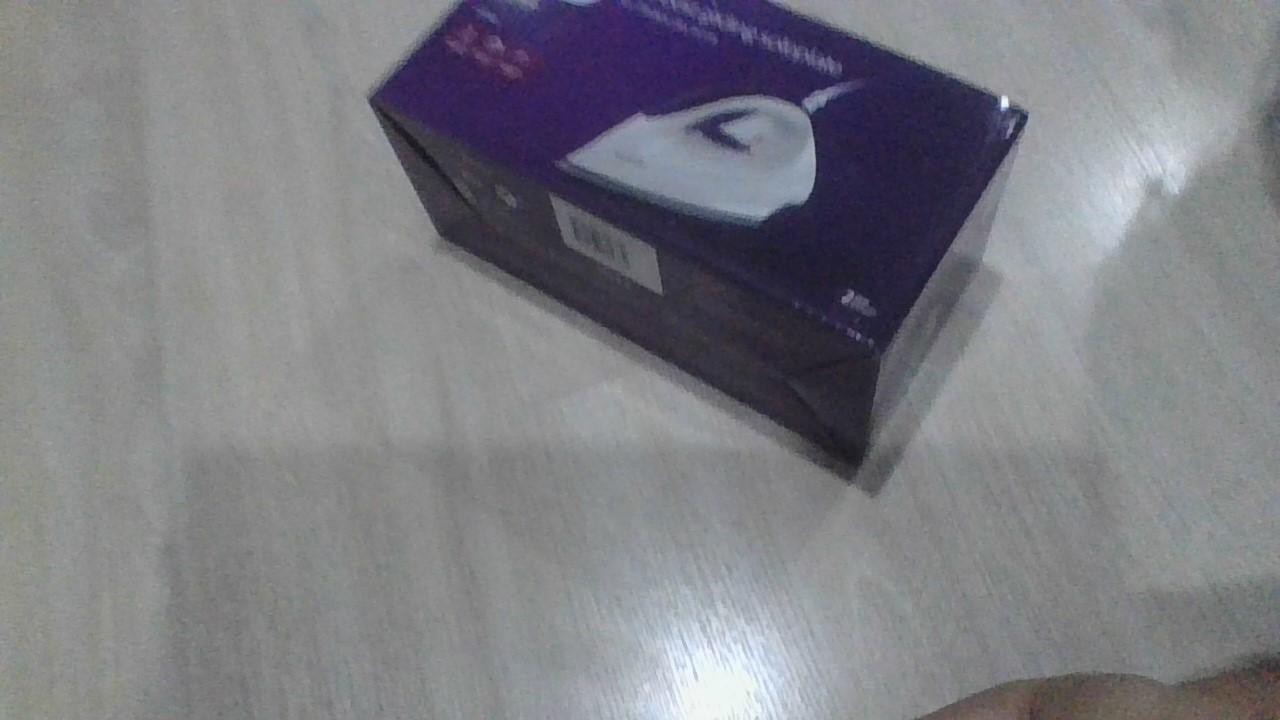IRON: (361, 1, 1032, 486)
